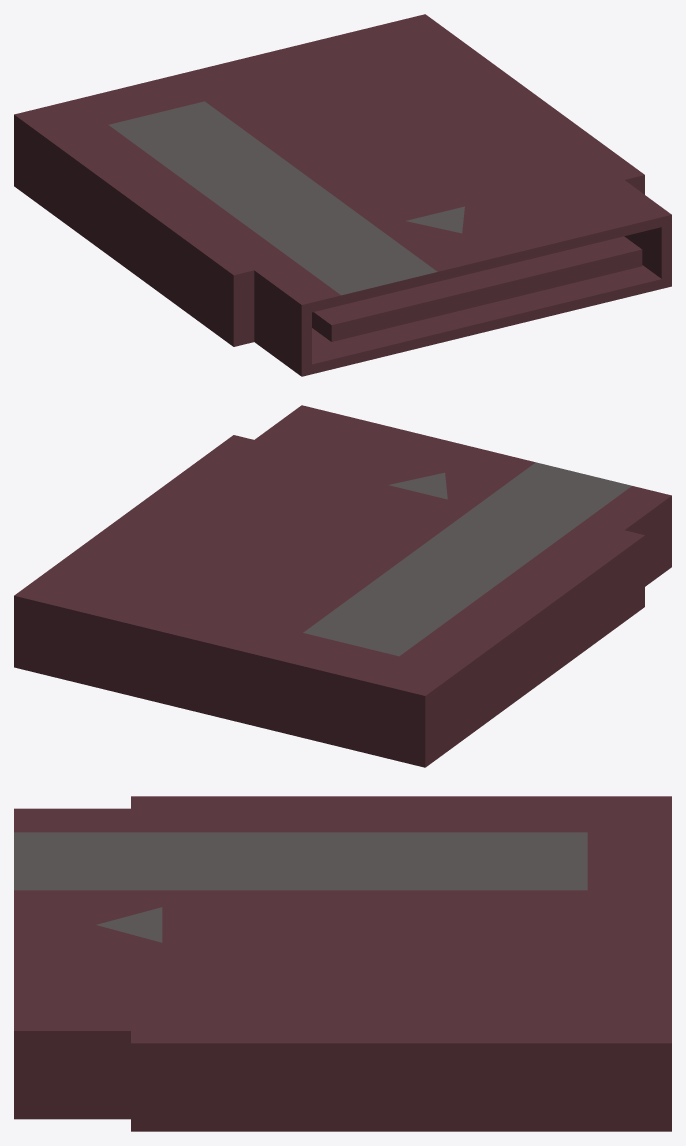
The model's file is cartridge-game-c.fbx.
3 renders of one model, top to bottom at view 1: azimuth 30°, elevation 25°; view 2: azimuth 150°, elevation 25°; view 3: azimuth 270°, elevation 25°, orthographic. The views are drawn at different scales.
Parts seen in each view (by area): view 1: cartridge-game-c; view 2: cartridge-game-c; view 3: cartridge-game-c.
Boxes of the visible parts, box(x1,y1,x2,y2) form: cartridge-game-c: box(14, 14, 671, 376); cartridge-game-c: box(14, 405, 671, 767); cartridge-game-c: box(14, 796, 671, 1131).
Bounding box in the file's own units: 0.132 × 0.022 × 0.1485.
